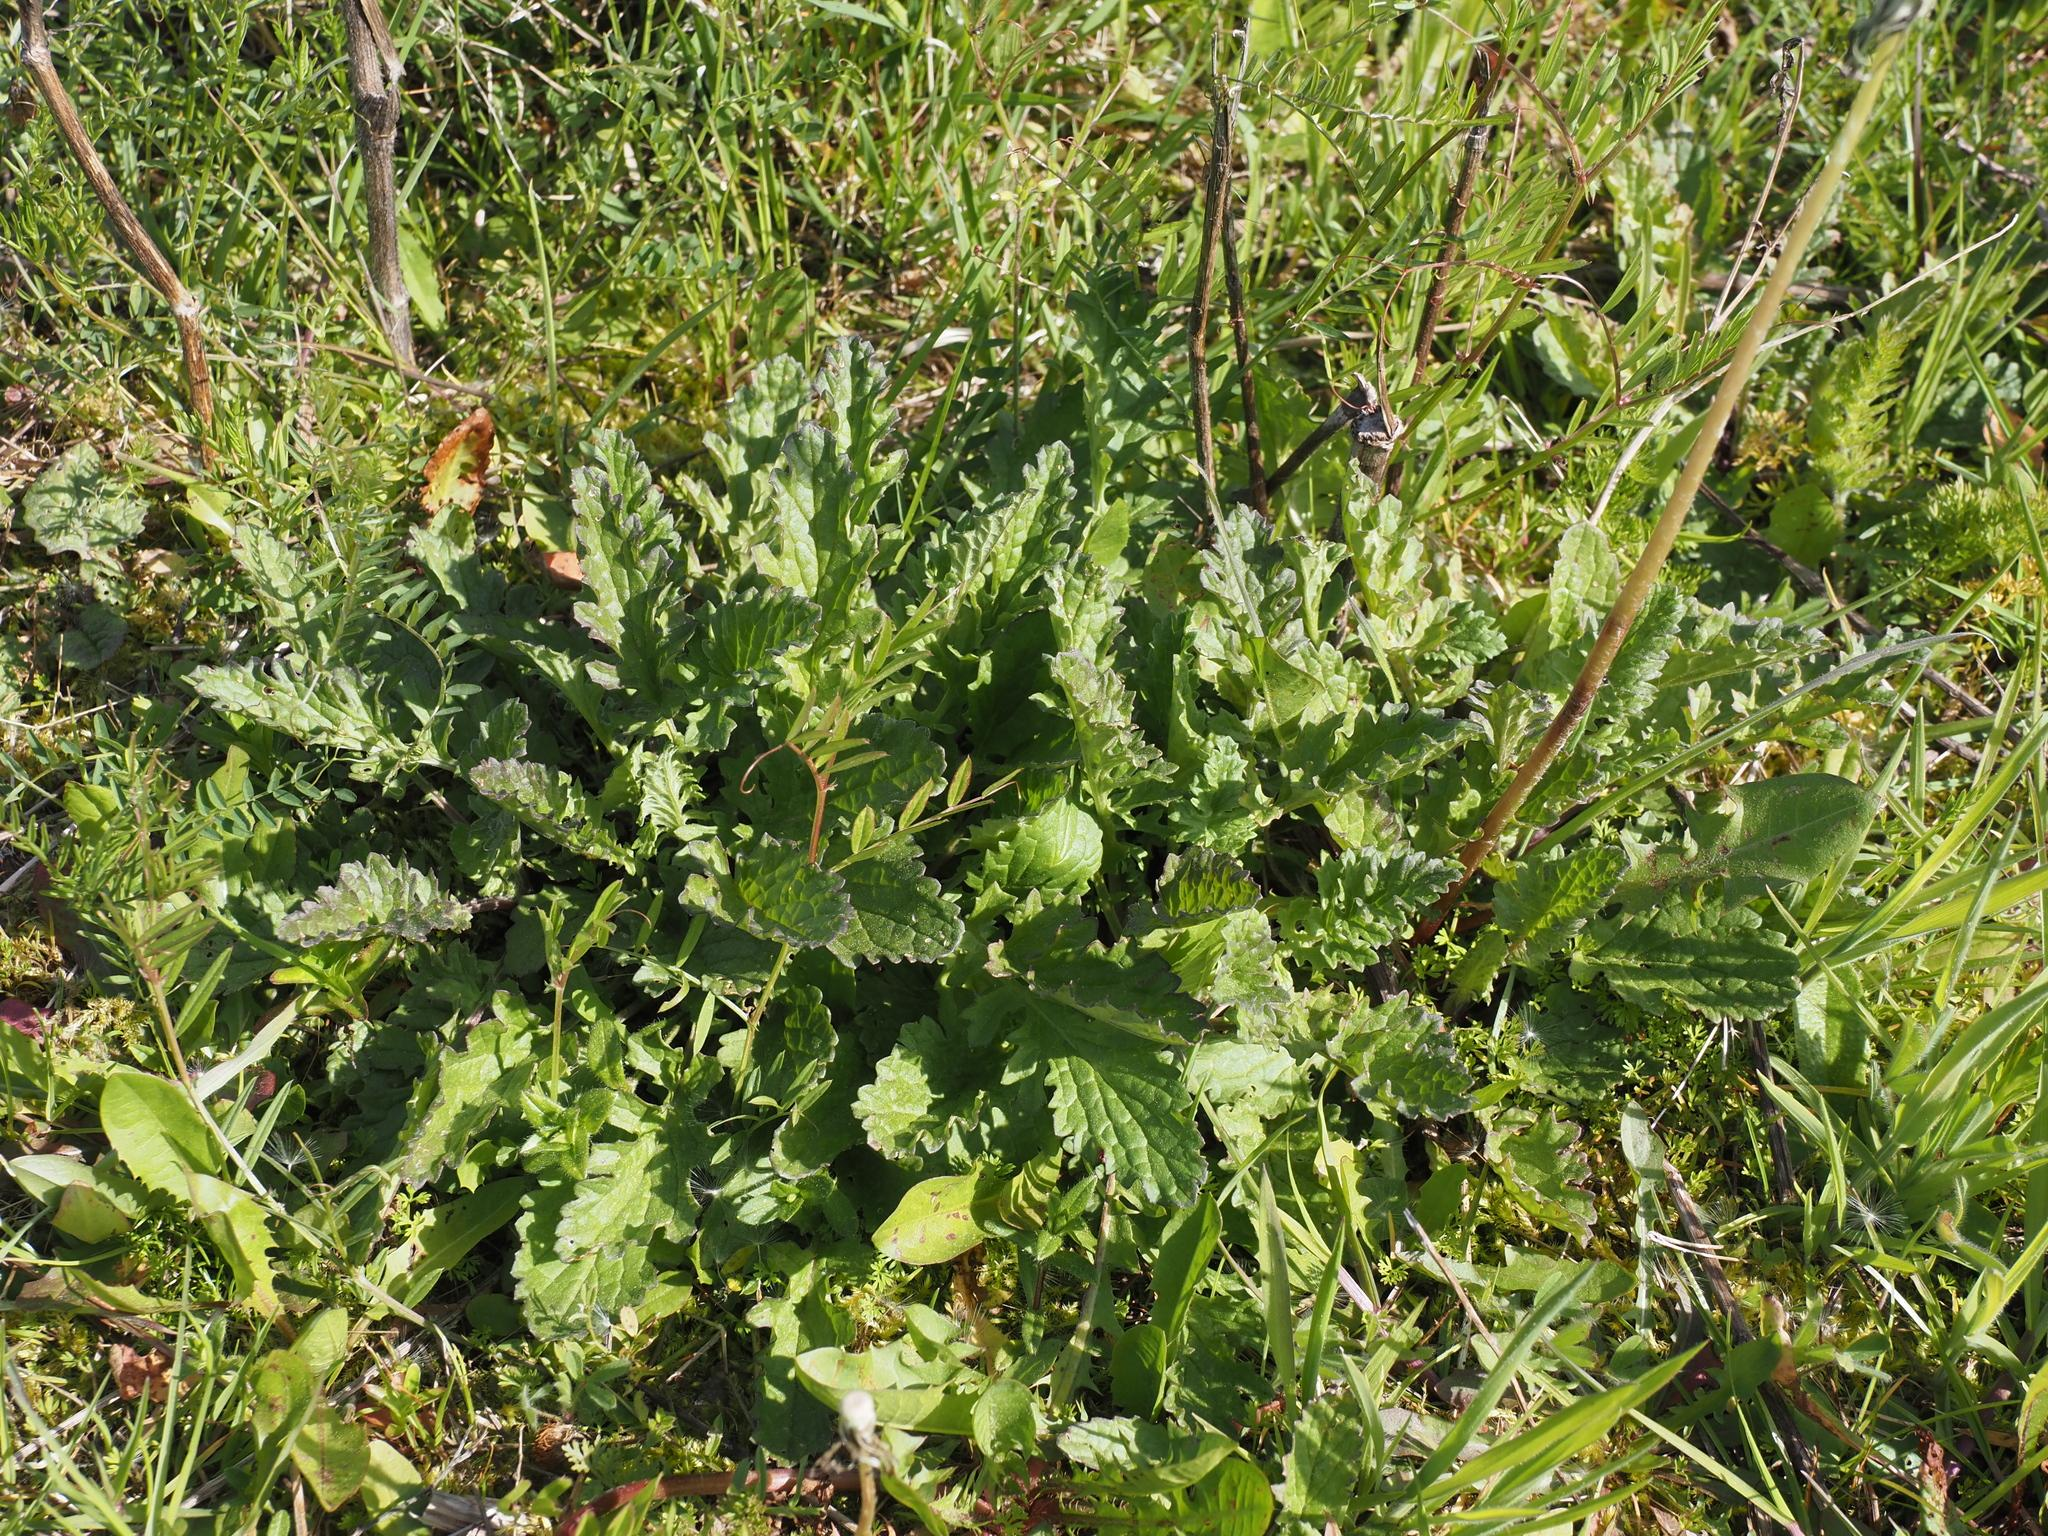Jacobaea vulgaris: (169, 315, 1508, 1383)
